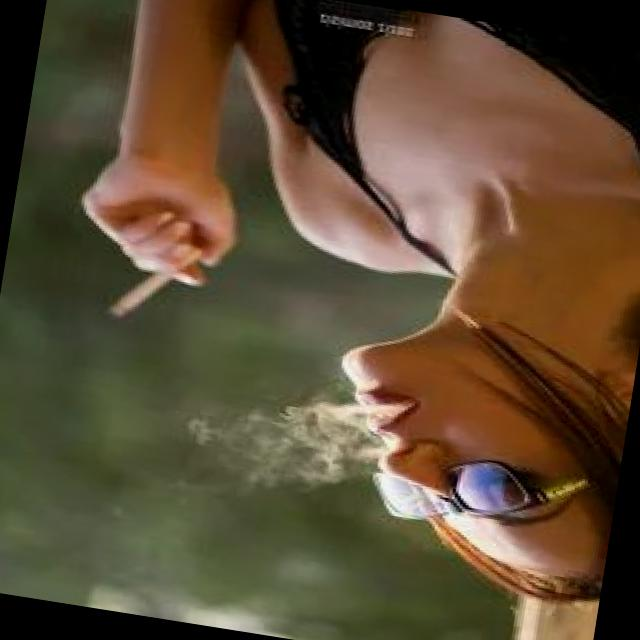smoke: (100, 262, 182, 333)
